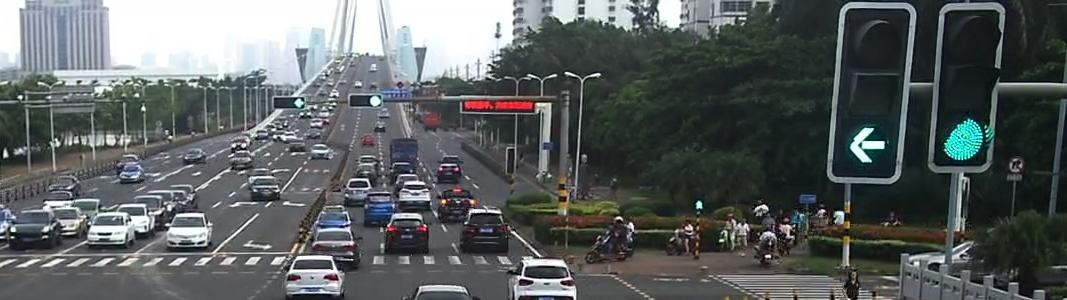green: (941, 114, 987, 162), (370, 94, 384, 108)
greenleft: (843, 122, 892, 166), (292, 96, 304, 109)
greenpeople: (693, 197, 705, 210)
